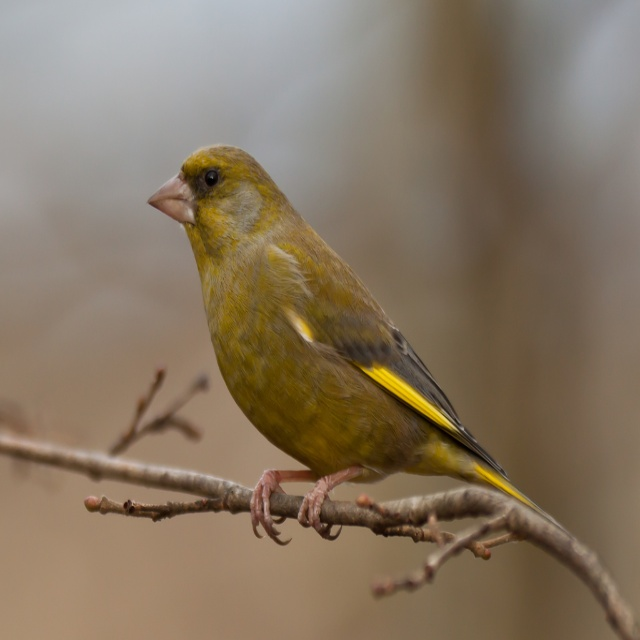Canary: (145, 142, 562, 546)
